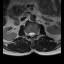CCS_normal: (31, 30, 33, 39)
LFS_normal: (35, 30, 37, 37)
LLS_normal: (33, 30, 35, 38)
RFS_normal: (26, 30, 28, 38)
RLS_normal: (28, 30, 31, 38)
